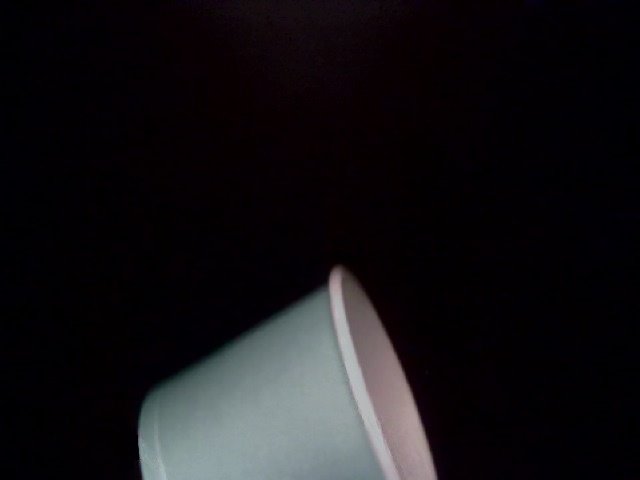KHSLJ: (1, 187, 459, 473)
